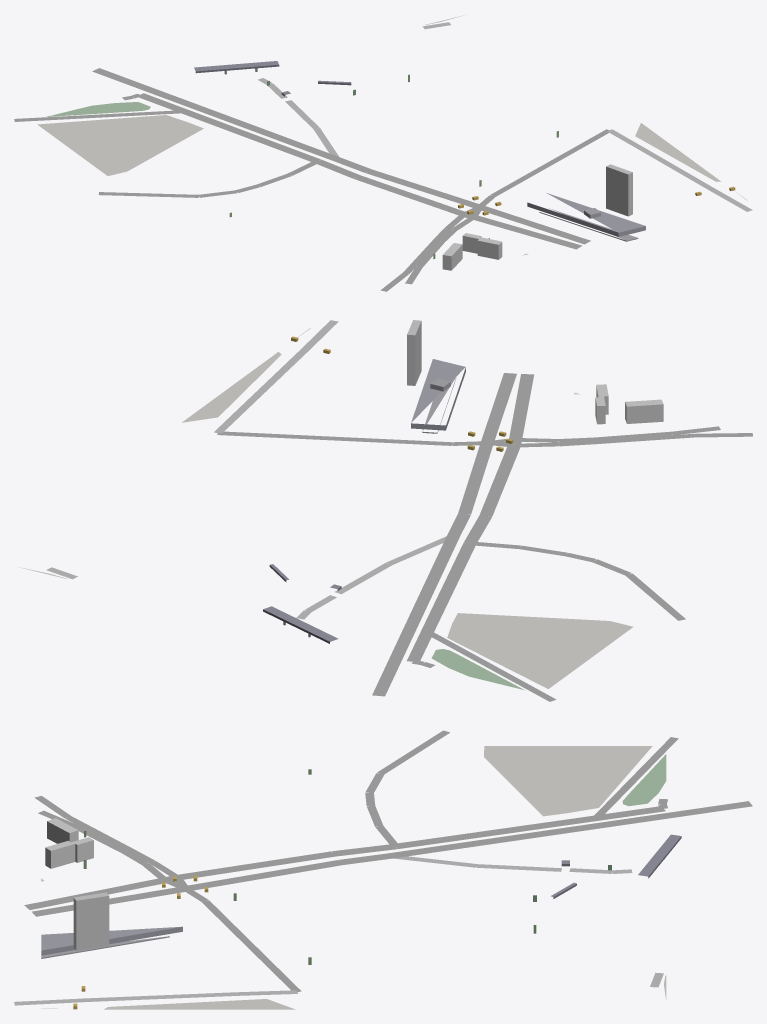
3 views of the same model, one above another, from view 1: azimuth 30°, elevation 25°; view 2: azimuth 150°, elevation 25°; view 3: azimuth 270°, elevation 25° (orthographic). The views are drawn at different scales.
Size of the model in its own units: 530 by 56.31 by 591.
